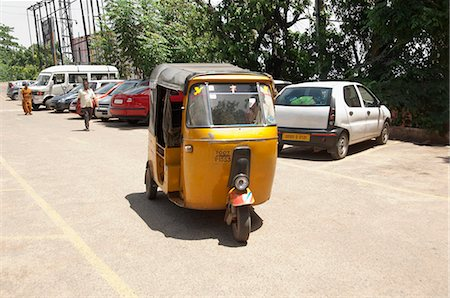auto: (144, 60, 287, 244)
